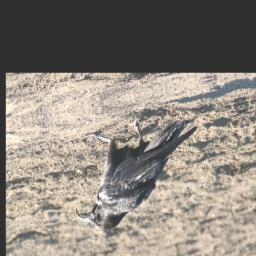Crow: (60, 101, 214, 238)
